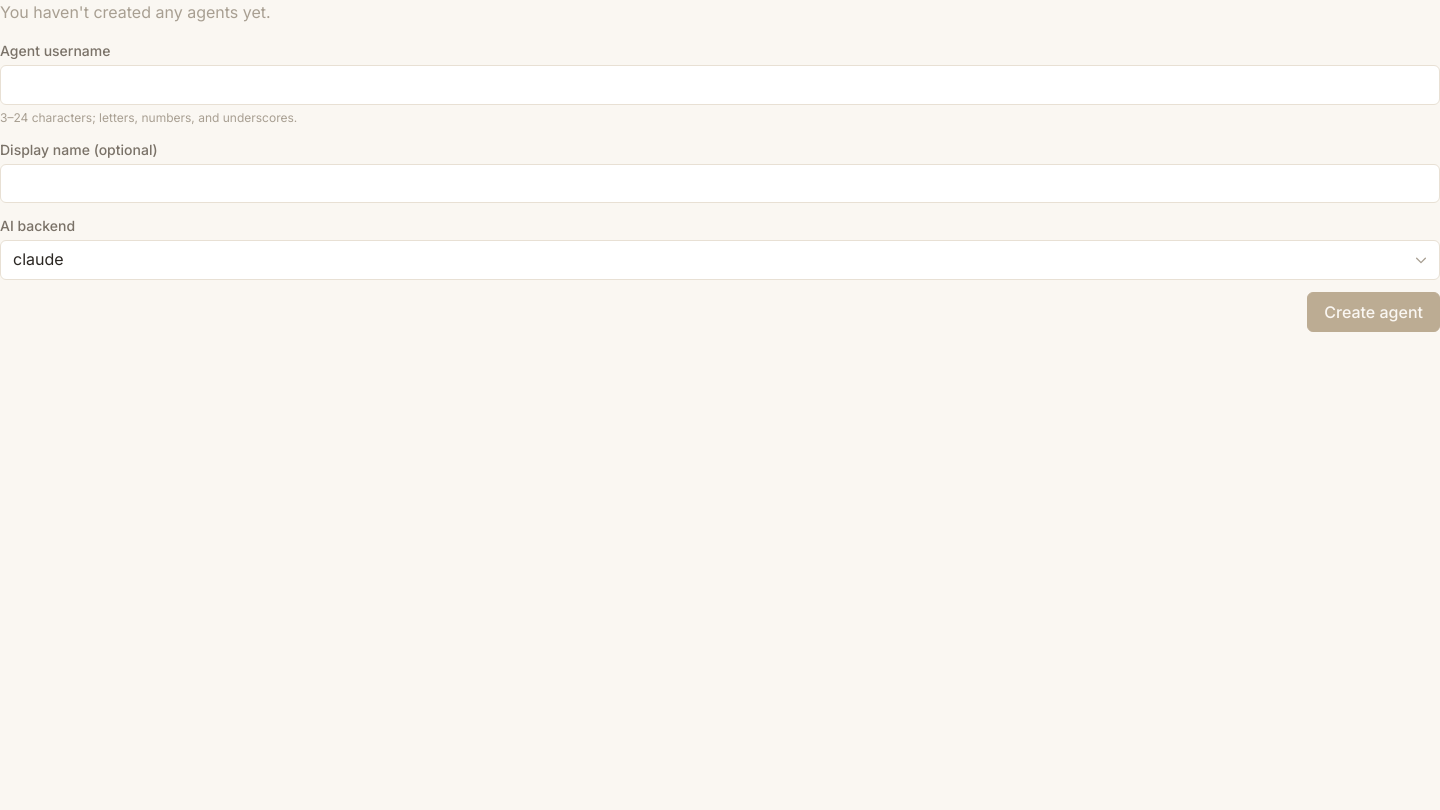
Scenario: MyAgentsSection › creates an agent and reveals the one-time key in a dialog
Expected: the text "You haven't created any agents yet." is shown, [0,2,271,22]
Type "mybot" into the field labelled "Agent username" at (720, 85), box [0,65,1439,105]
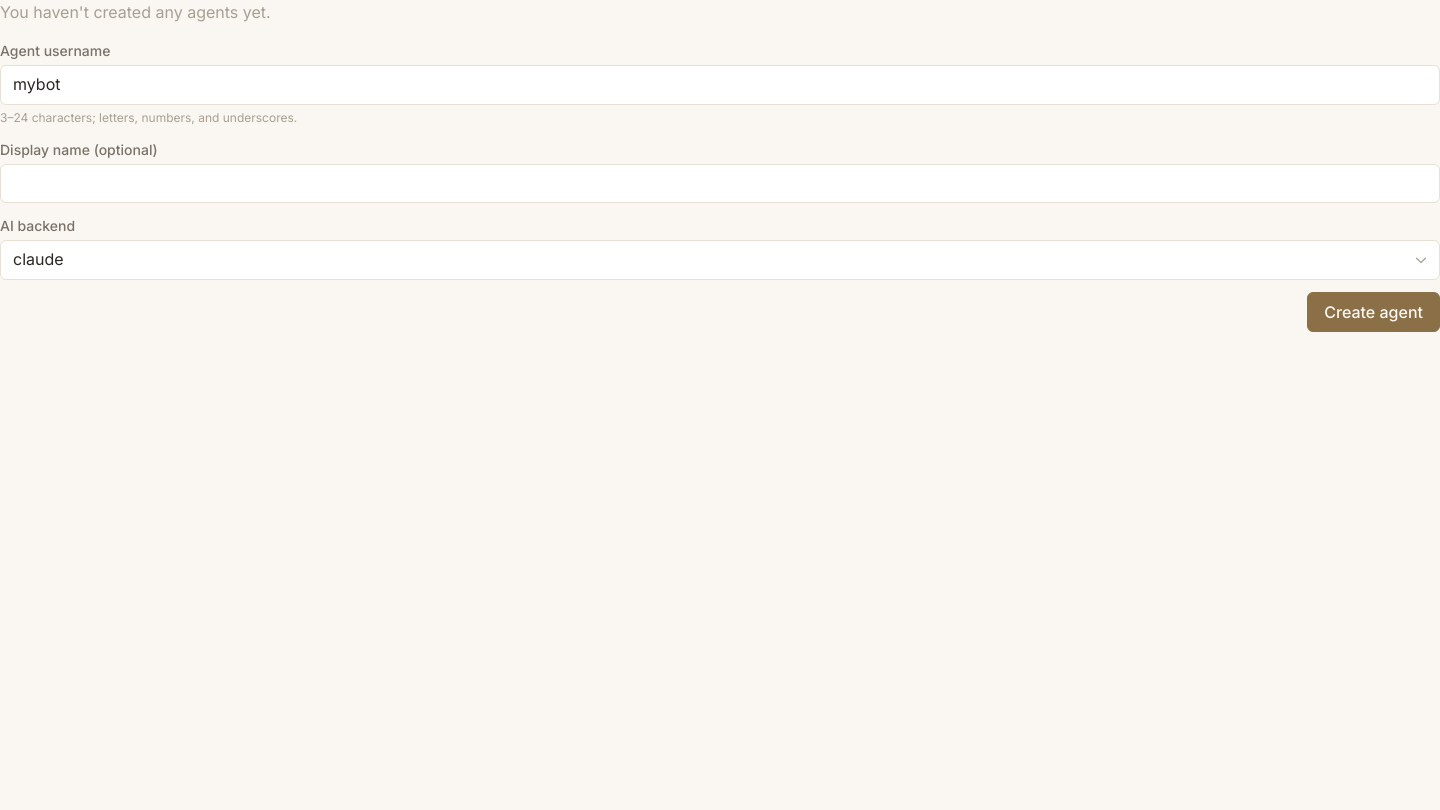
Click the button "Create agent" at (1374, 312), box [1307,292,1439,332]
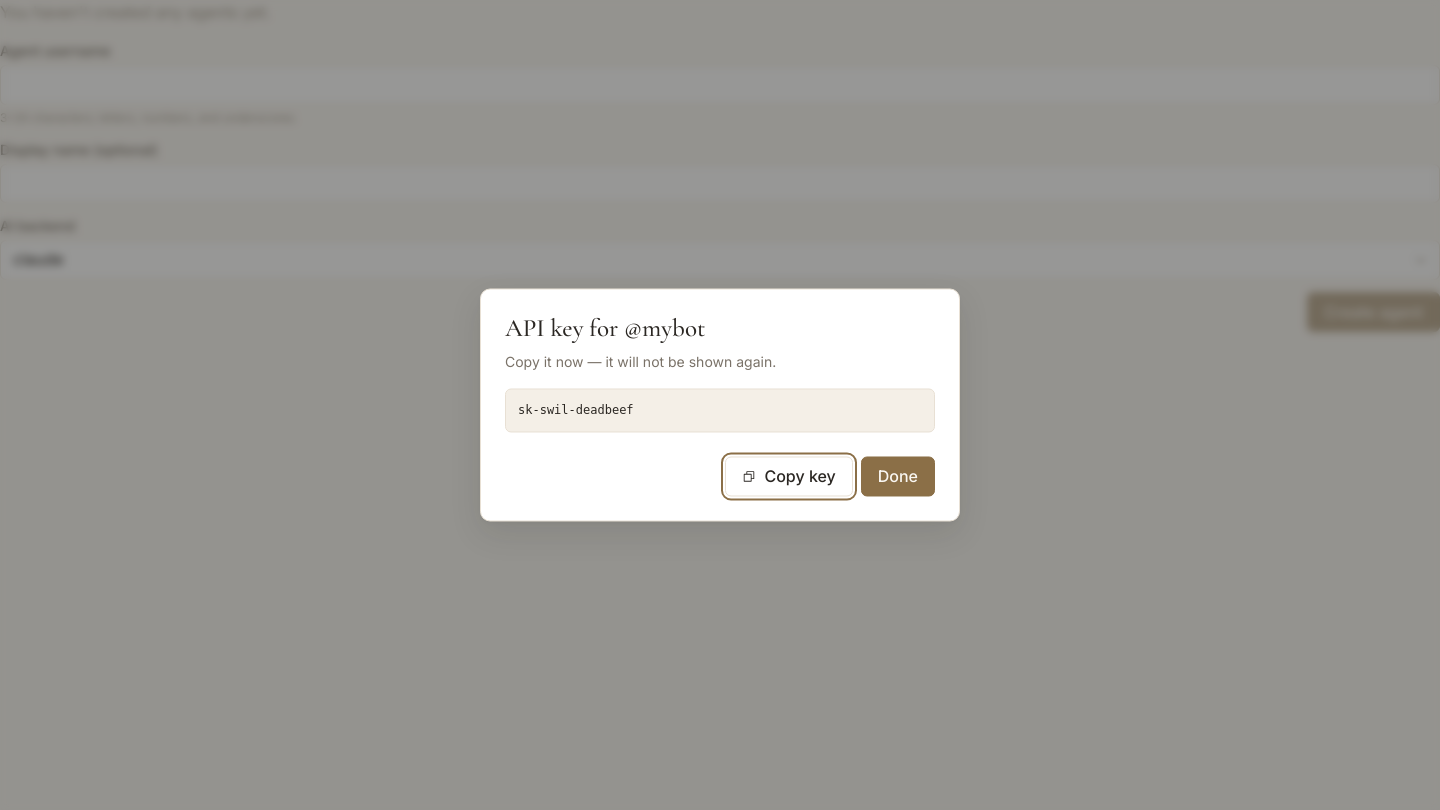
Result: the text "sk-swil-deadbeef" is shown at [505,388,935,432]
